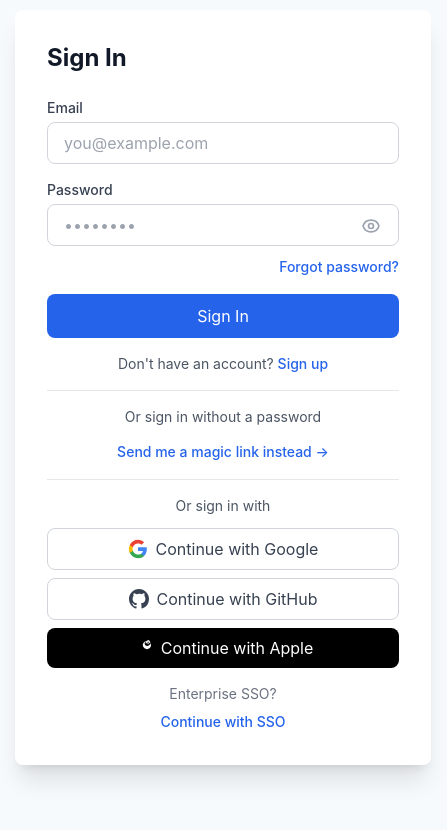
LoginPage › displays error message when login fails
Type "test@example.com" into the field labelled "Email". click: (223, 142)
box: [47,122,399,164]
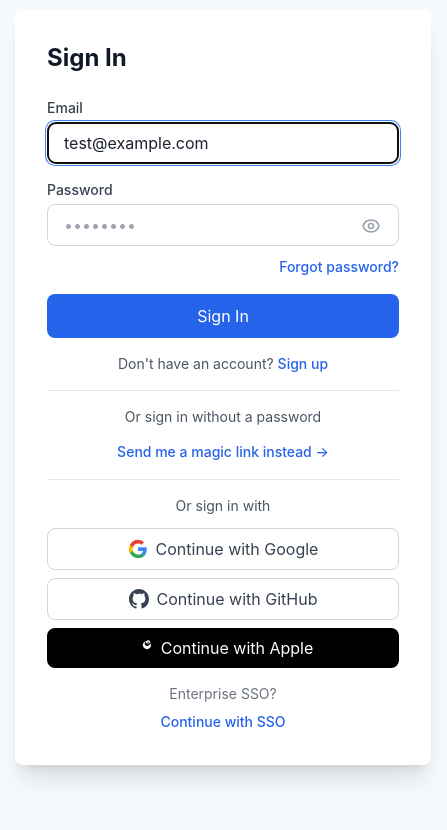
Type "Password123" into the password field labelled "Password". click: (223, 224)
box: [47,204,399,246]
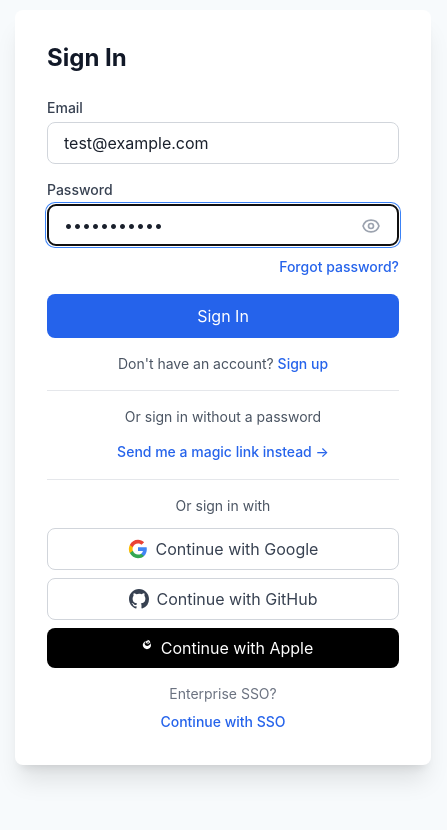
Click the button "Sign In". click: (223, 316)
box: [47,294,399,338]
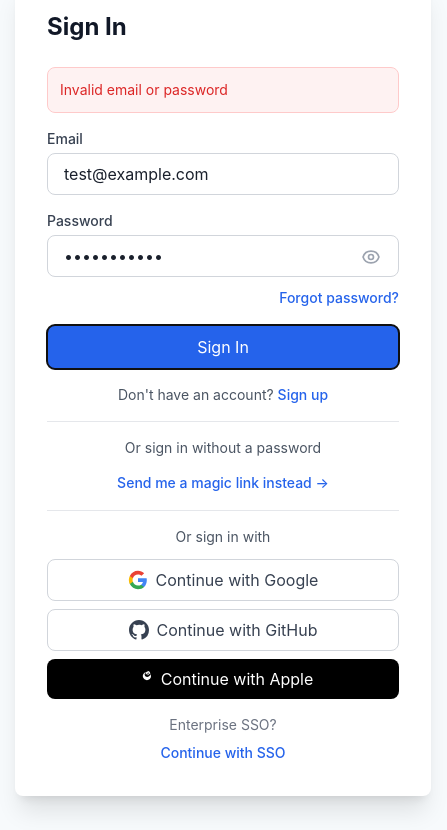
Expected: the text "Invalid email or password" is shown, [60,80,228,98]
Expected: the message "Invalid email or password" is shown, [47,66,399,112]
